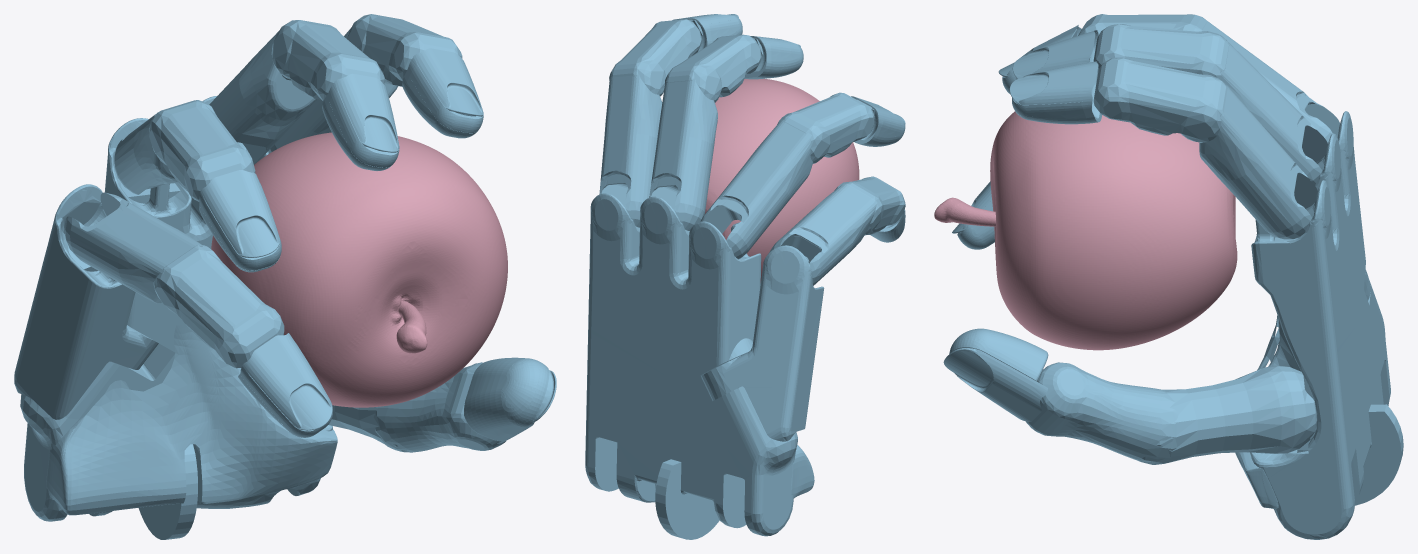
3 renders of one model, left to right at view 1: azimuth 30°, elevation 25°; view 2: azimuth 150°, elevation 25°; view 3: azimuth 270°, elevation 25°, orthographic. The views are drawn at different scales.
Visible parts, largest first — view 1: world, apple.stl; view 2: world, apple.stl; view 3: world, apple.stl.
Boxes of the visible parts, left/top/right/bottom form: world: left=14, top=14, right=556, bottom=539; apple.stl: left=211, top=132, right=507, bottom=407; world: left=585, top=14, right=905, bottom=539; apple.stl: left=705, top=78, right=859, bottom=282; world: left=943, top=14, right=1403, bottom=539; apple.stl: left=934, top=111, right=1237, bottom=350.
Bounding box in the file's own units: 0.1049 × 0.163 × 0.1367.
